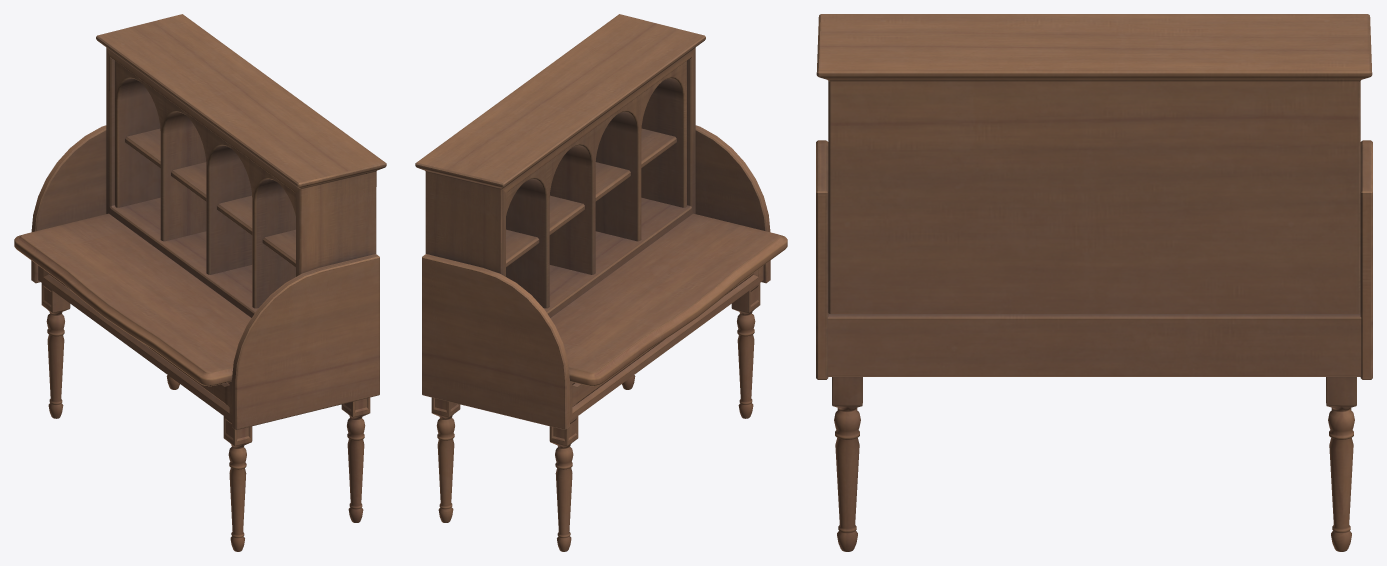
Rendered from ChristmasRoom_SnowmanShelves.fbx.
The picture shows the model from 3 angles, left to right: view 1: azimuth 30°, elevation 25°; view 2: azimuth 150°, elevation 25°; view 3: azimuth 270°, elevation 25°; orthographic projection. The views are drawn at different scales.
Parts seen in each view (by area): view 1: ChristmasRoom_SnowmanShelves; view 2: ChristmasRoom_SnowmanShelves; view 3: ChristmasRoom_SnowmanShelves.
Boxes of the visible parts, box(x1,y1,x2,y2) form: ChristmasRoom_SnowmanShelves: box(14, 14, 386, 551); ChristmasRoom_SnowmanShelves: box(415, 14, 787, 551); ChristmasRoom_SnowmanShelves: box(816, 14, 1372, 551).
Bounding box in the file's own units: 74.22 × 141 × 145.
